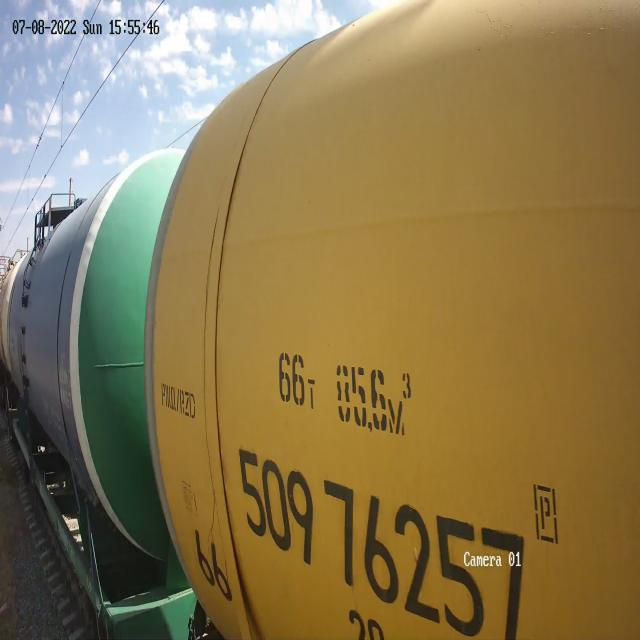tank: (137, 0, 640, 640), (5, 137, 181, 640)
